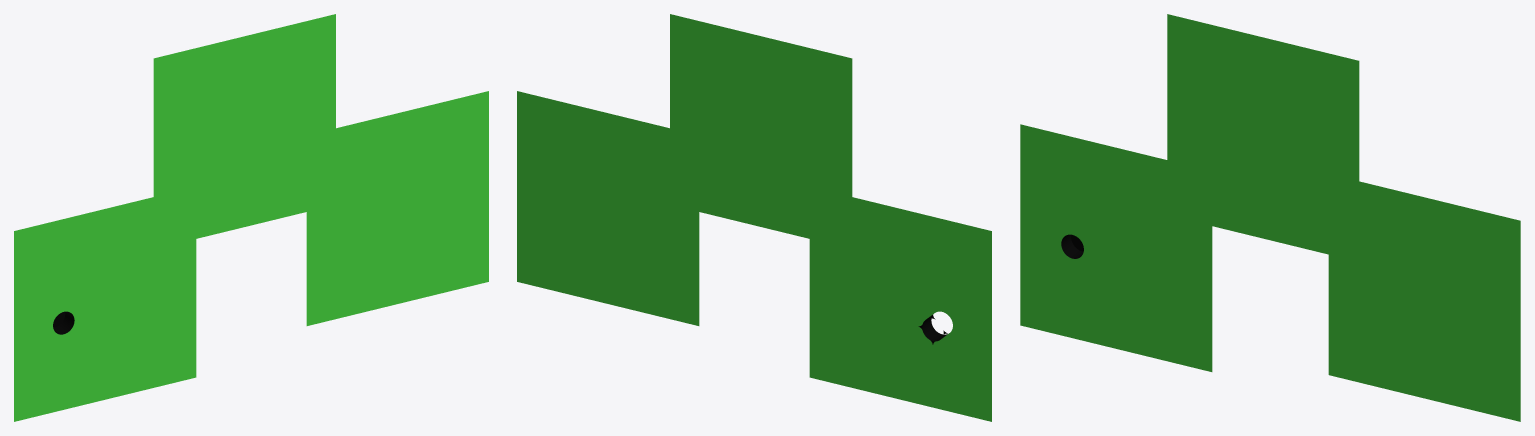
Rendered from PlanoGolfv3.fbx.
The picture shows the model from 3 angles, left to right: view 1: azimuth 30°, elevation 25°; view 2: azimuth 150°, elevation 25°; view 3: azimuth 330°, elevation 25°; orthographic projection. The views are drawn at different scales.
Visible parts, largest first — view 1: Plane.002; view 2: Plane.002; view 3: Plane.002.
Part boxes in pixels (x1=…): Plane.002: x1=14, y1=14, x2=488, y2=421; Plane.002: x1=517, y1=14, x2=991, y2=421; Plane.002: x1=1020, y1=14, x2=1520, y2=421.
Bounding box in the file's own units: 31.25 × 1.06 × 20.72.
